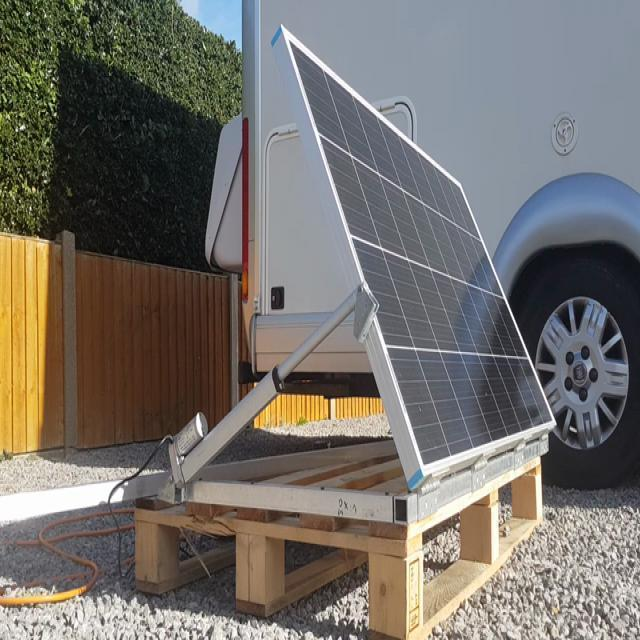Normal Solar Panel: (282, 29, 557, 476)
